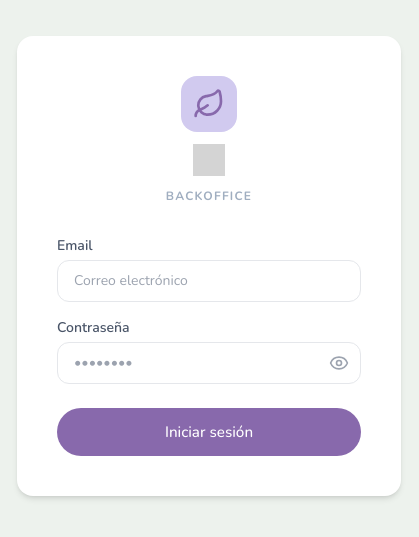
BackofficeLogin › muestra error de validación si el email tiene formato inválido
Type "noesmail" into the field with placeholder "Correo electrónico".
click(209, 281); type("noesmail")  # box [57, 260, 361, 302]
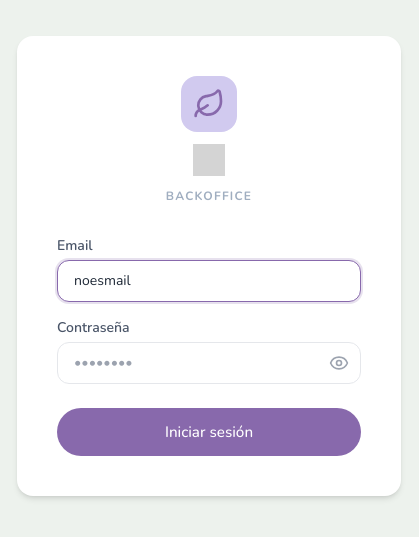
Click the button "Iniciar sesión".
click(209, 432)  # box [57, 408, 361, 456]
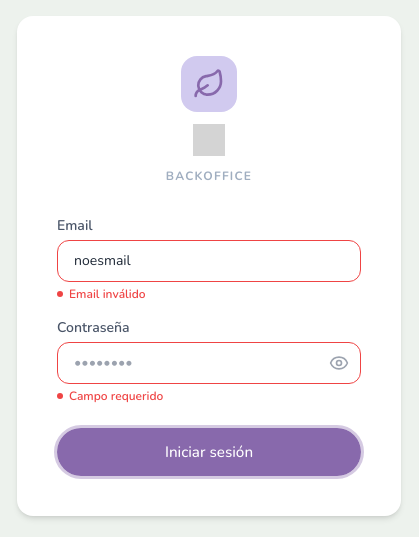
Now the text "Email inválido" is shown, box [57, 286, 146, 302]
